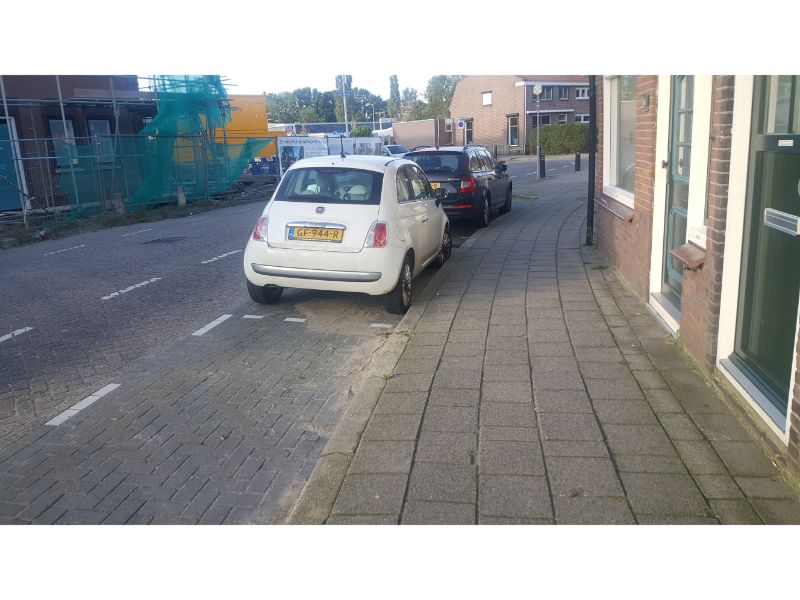kenteken: (291, 224, 341, 242)
